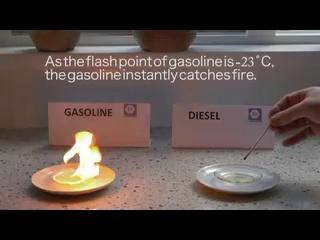Fire: (62, 126, 128, 183)
